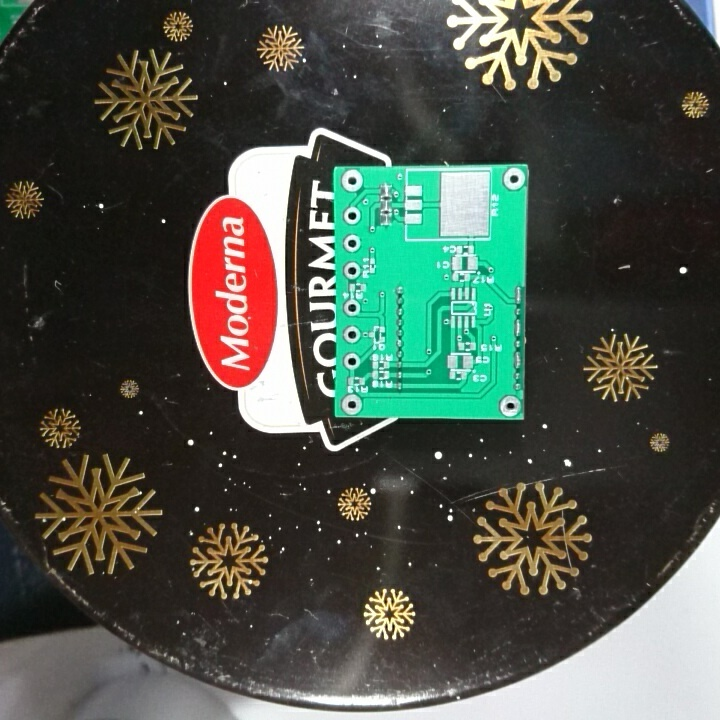F: (500, 166, 528, 192), (339, 167, 365, 193), (339, 390, 364, 417), (497, 394, 522, 419), (341, 232, 364, 255), (341, 204, 362, 227), (340, 323, 361, 346), (341, 298, 362, 320), (341, 259, 362, 280), (342, 350, 362, 371)
P: (512, 283, 525, 306), (512, 318, 524, 339), (512, 349, 522, 372)
